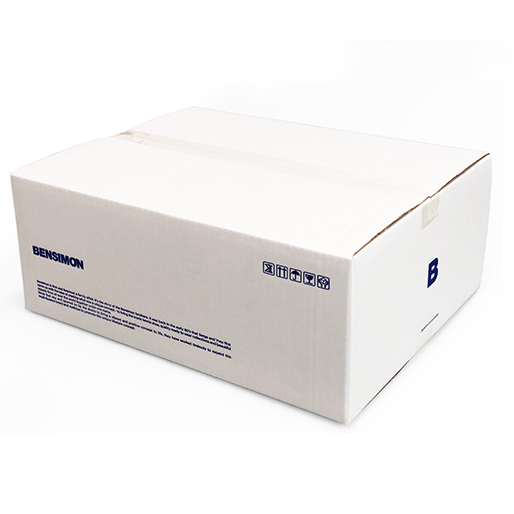undamaged: (1, 107, 487, 428)
